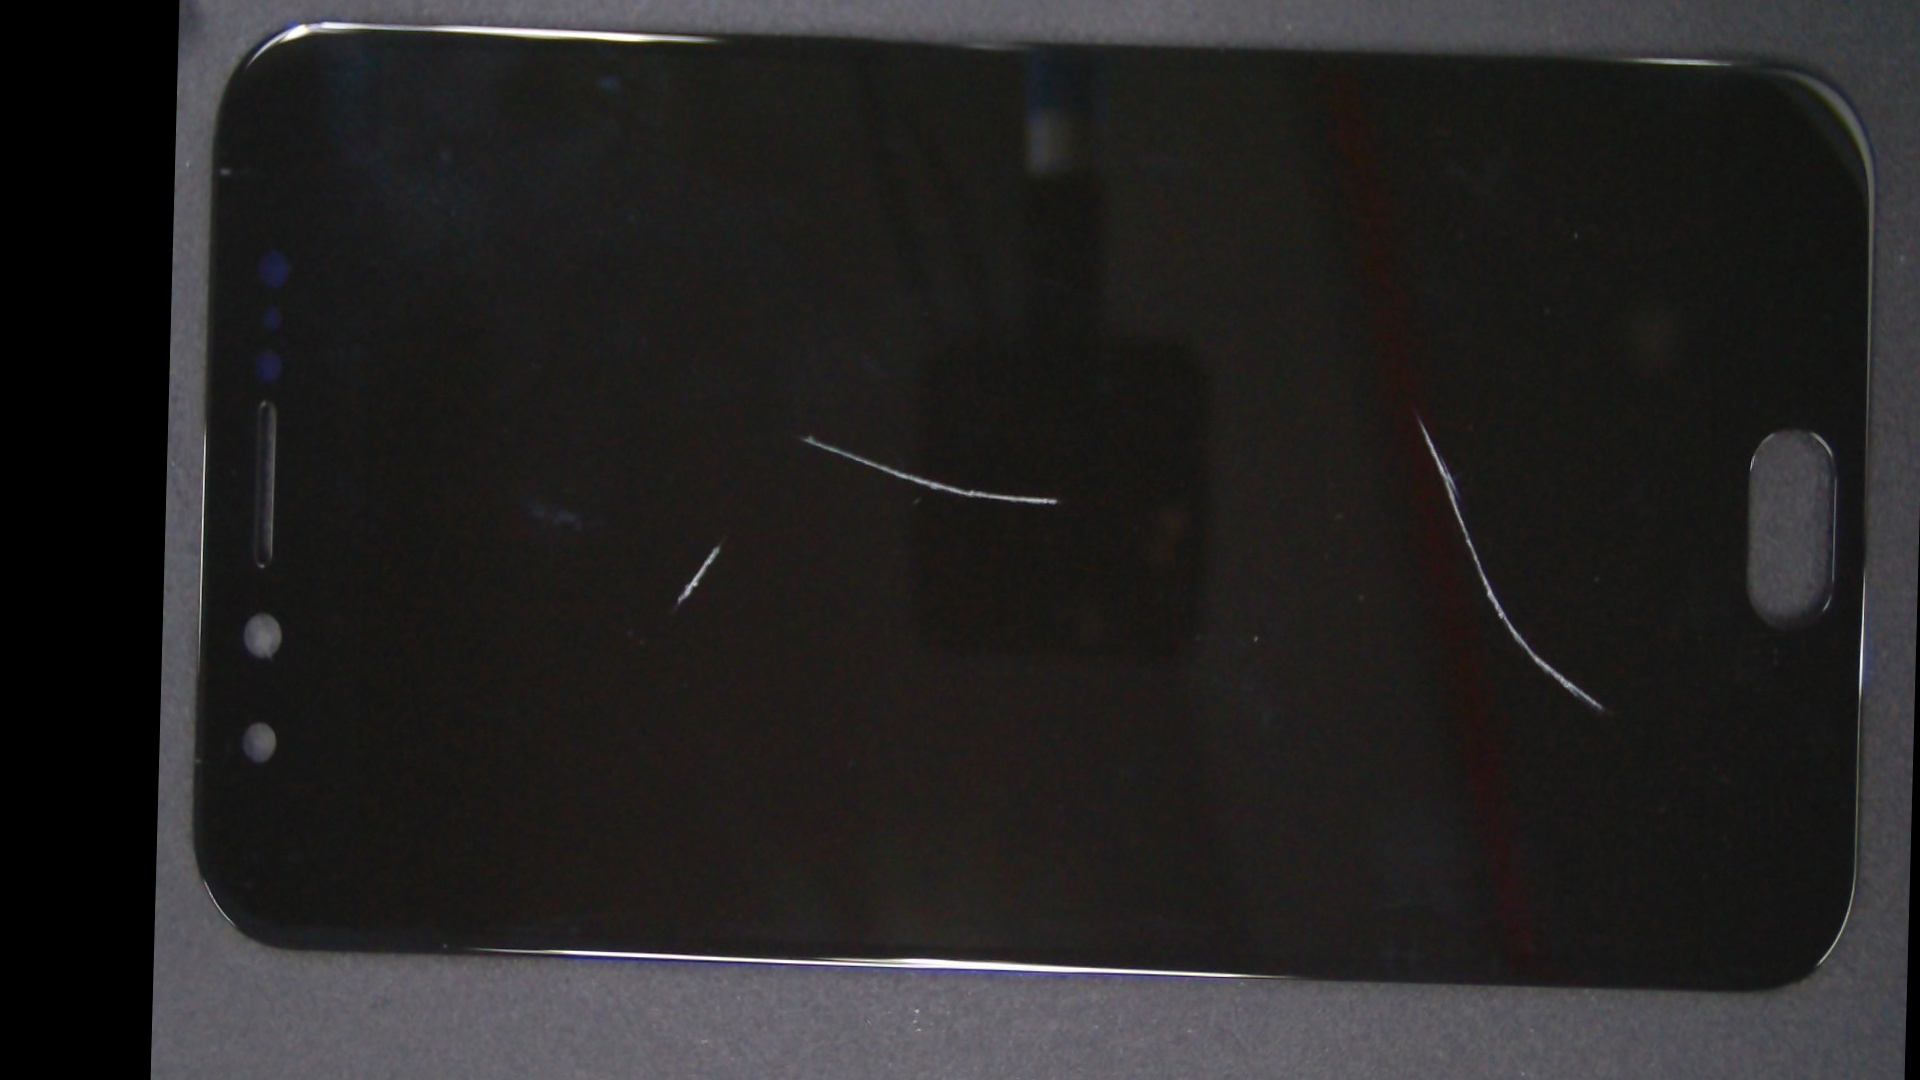oil: (787, 175, 1920, 655), (436, 240, 1006, 845), (484, 186, 1137, 684)
